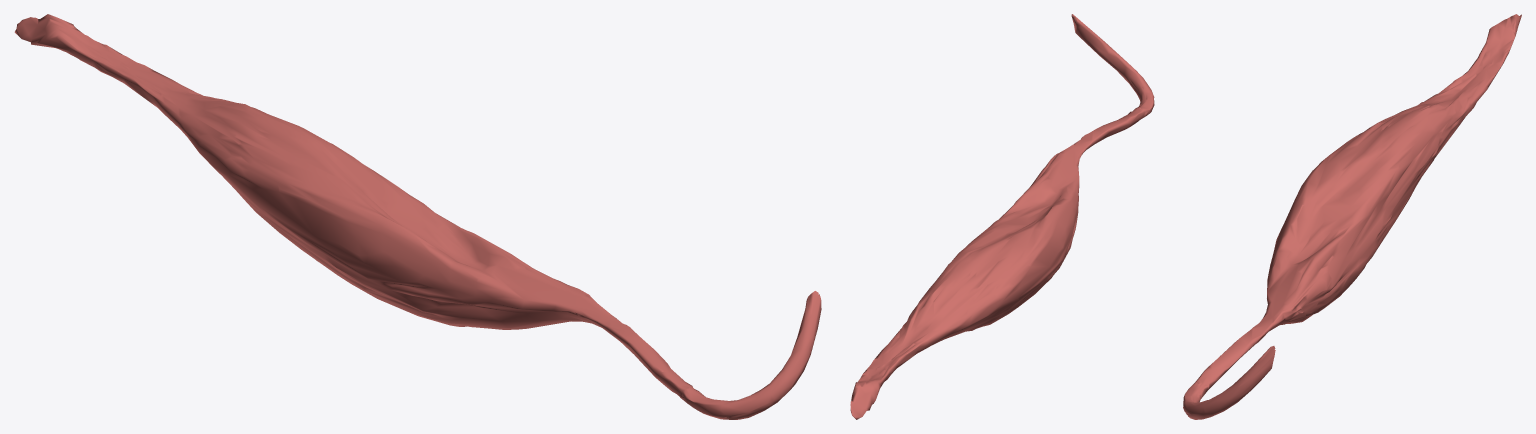
3 views of the same model, side by side, from view 1: azimuth 30°, elevation 25°; view 2: azimuth 150°, elevation 25°; view 3: azimuth 330°, elevation 25° (orthographic). The views are drawn at different scales.
Parts seen in each view (by area): view 1: 右侧肱二头肌长头; view 2: 右侧肱二头肌长头; view 3: 右侧肱二头肌长头.
Part boxes in pixels (<box>): 右侧肱二头肌长头: <box>14,14,821,419</box>; 右侧肱二头肌长头: <box>850,14,1154,419</box>; 右侧肱二头肌长头: <box>1183,14,1521,419</box>.
Bounding box in the file's own units: 0.1403 × 0.0732 × 0.5262.
